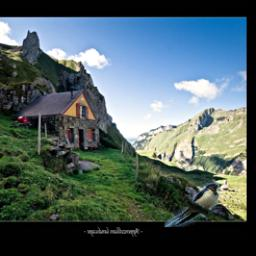Swallow: (163, 183, 219, 227)
